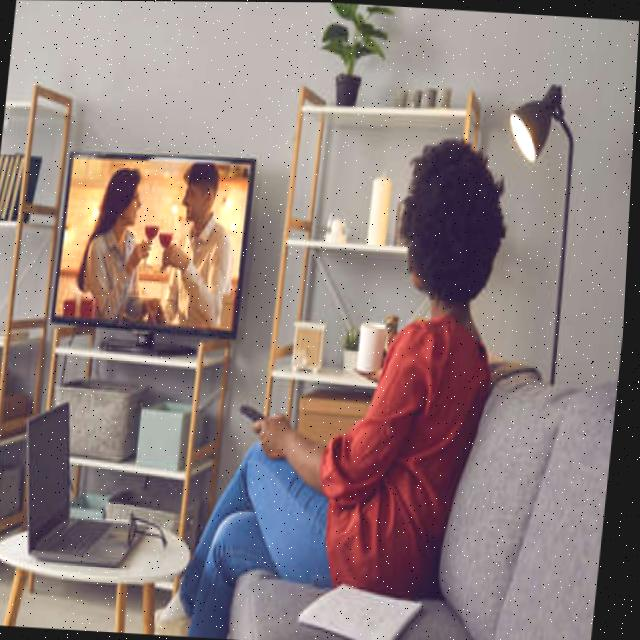tv-person: (24, 88, 520, 615)
